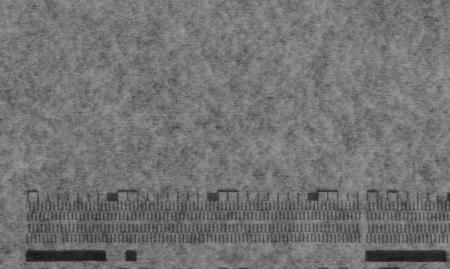Broken hole: (53, 233, 67, 245)
